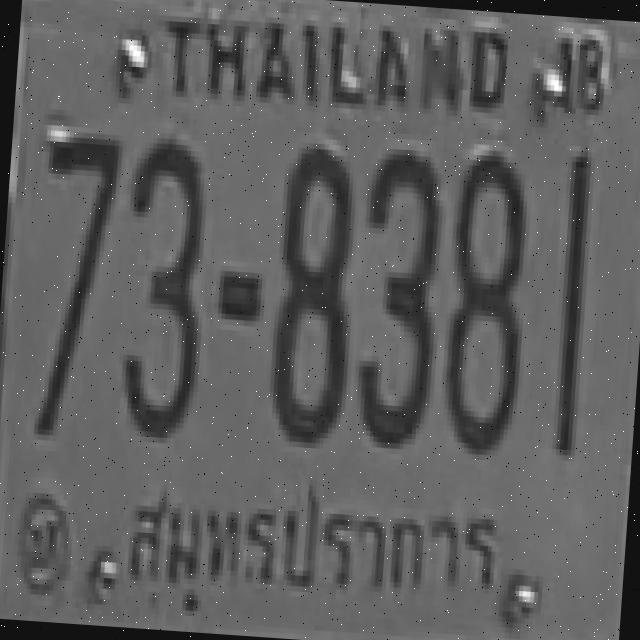1: (549, 150, 591, 428), (551, 153, 591, 404)
3: (111, 134, 212, 436), (350, 142, 443, 445)
7: (26, 130, 119, 432), (30, 130, 119, 374)
8: (262, 138, 359, 442), (438, 148, 530, 451)
SamutPrakan: (112, 474, 515, 640)
